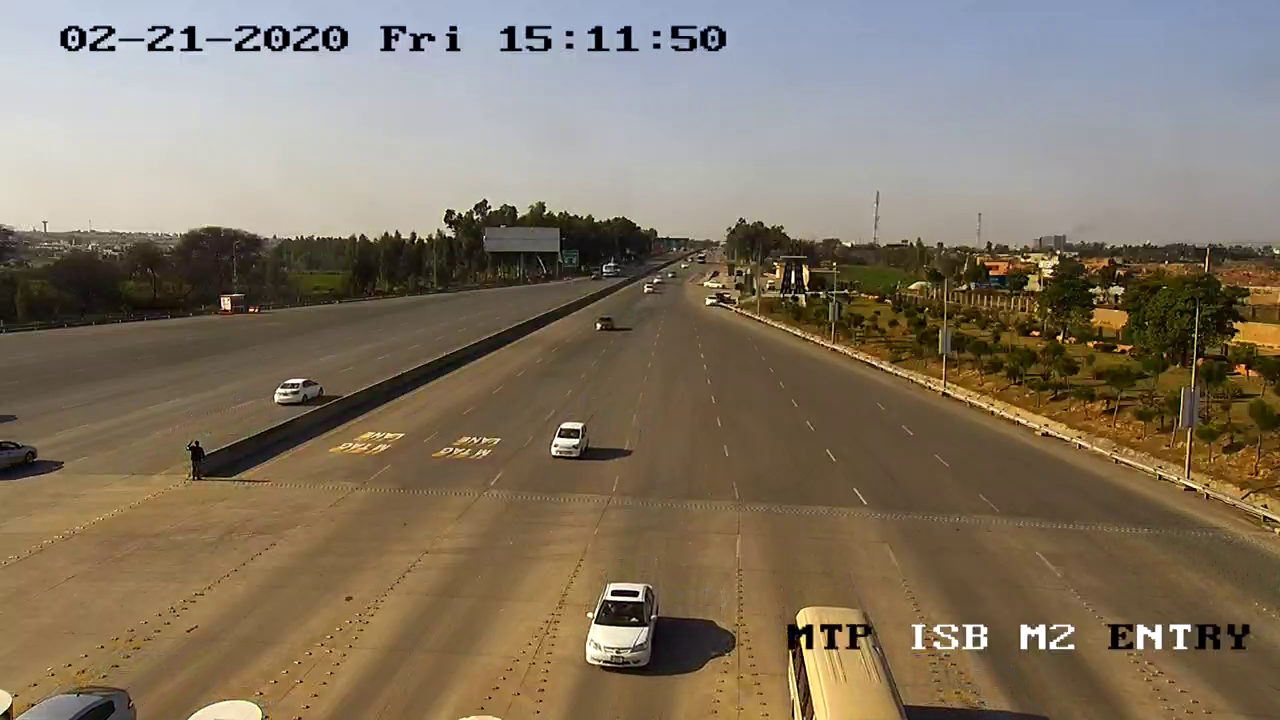f1: (582, 572, 666, 679), (545, 417, 593, 465)
